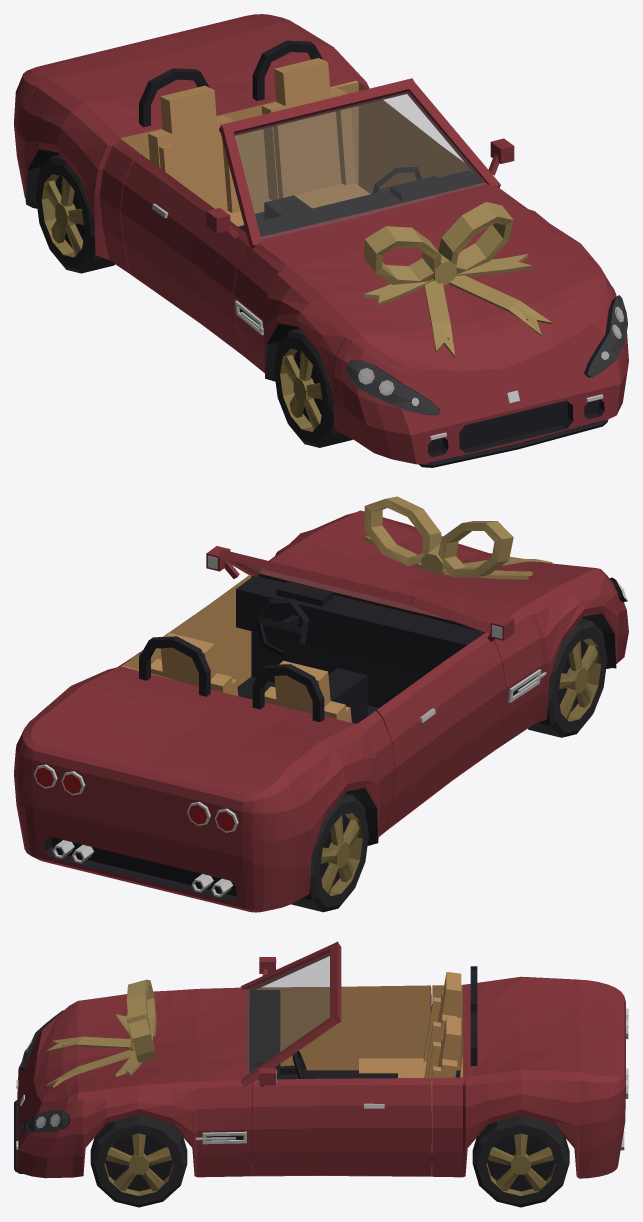
Rendered from jackpot-prize-convertible-81bca8.glb.
The picture shows the model from 3 angles, top to bottom: view 1: azimuth 30°, elevation 25°; view 2: azimuth 150°, elevation 25°; view 3: azimuth 270°, elevation 25°; orthographic projection. The views are drawn at different scales.
Parts seen in each view (by area): view 1: body, glass, door-r-panel, bow-ribbon, tyre-fr, tyre-rr, door-l-panel; view 2: body, door-r-panel, bow-ribbon, tyre-fr, tyre-rr, door-l-panel, glass; view 3: body, door-l-panel, door-r-panel, glass, tyre-fl, tyre-rl, bow-ribbon.
Boxes of the visible parts, bbox=[...] form: body: bbox=[14, 14, 628, 467]; glass: bbox=[234, 92, 627, 414]; door-r-panel: bbox=[120, 154, 248, 354]; bow-ribbon: bbox=[363, 202, 552, 357]; tyre-fr: bbox=[274, 328, 352, 447]; tyre-rr: bbox=[35, 154, 114, 273]; door-l-panel: bbox=[377, 100, 514, 189]; body: bbox=[14, 510, 628, 912]; door-r-panel: bbox=[377, 615, 514, 830]; bow-ribbon: bbox=[363, 496, 552, 579]; tyre-fr: bbox=[528, 618, 607, 737]; tyre-rr: bbox=[291, 793, 368, 912]; door-l-panel: bbox=[136, 546, 251, 686]; glass: bbox=[245, 565, 627, 616]; body: bbox=[14, 941, 628, 1178]; door-l-panel: bbox=[253, 1068, 431, 1176]; door-r-panel: bbox=[256, 957, 431, 1070]; glass: bbox=[20, 952, 329, 1132]; tyre-fl: bbox=[90, 1114, 187, 1207]; tyre-rl: bbox=[472, 1115, 569, 1207]; bow-ribbon: bbox=[46, 979, 156, 1087].
Size of the model in its own units: 1.99 by 1.4 by 4.44.
